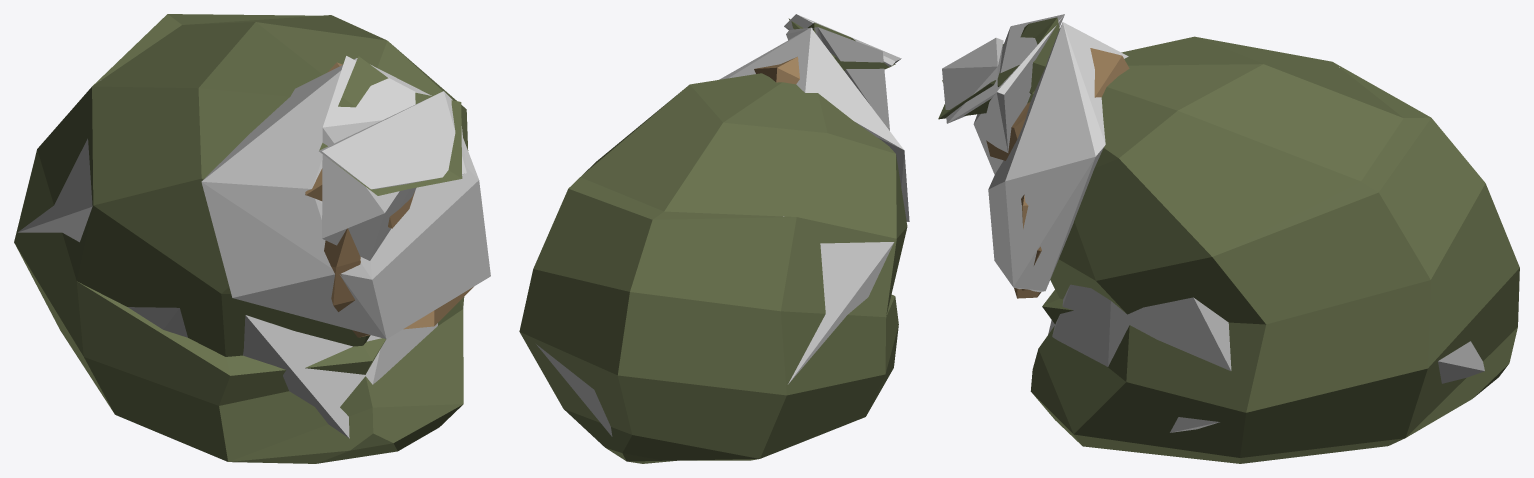
File: SM_Prop_Bundle_01.fbx
3 views of the same model, side by side, from view 1: azimuth 30°, elevation 25°; view 2: azimuth 150°, elevation 25°; view 3: azimuth 270°, elevation 25° (orthographic). The views are drawn at different scales.
Visible parts, largest first — view 1: SM_Prop_Bundle_01, SM_Prop_Bundle_01_ConvexHulls; view 2: SM_Prop_Bundle_01, SM_Prop_Bundle_01_ConvexHulls; view 3: SM_Prop_Bundle_01, SM_Prop_Bundle_01_ConvexHulls.
Part boxes in pixels (x1=…): SM_Prop_Bundle_01: x1=14, y1=14, x2=473, y2=463; SM_Prop_Bundle_01_ConvexHulls: x1=18, y1=56, x2=490, y2=438; SM_Prop_Bundle_01: x1=519, y1=18, x2=907, y2=463; SM_Prop_Bundle_01_ConvexHulls: x1=536, y1=14, x2=909, y2=436; SM_Prop_Bundle_01: x1=938, y1=17, x2=1519, y2=463; SM_Prop_Bundle_01_ConvexHulls: x1=942, y1=14, x2=1484, y2=432.
Bounding box in the file's own units: 66.94 × 89.66 × 65.5.
Materials: 2 (1 with a texture image).
